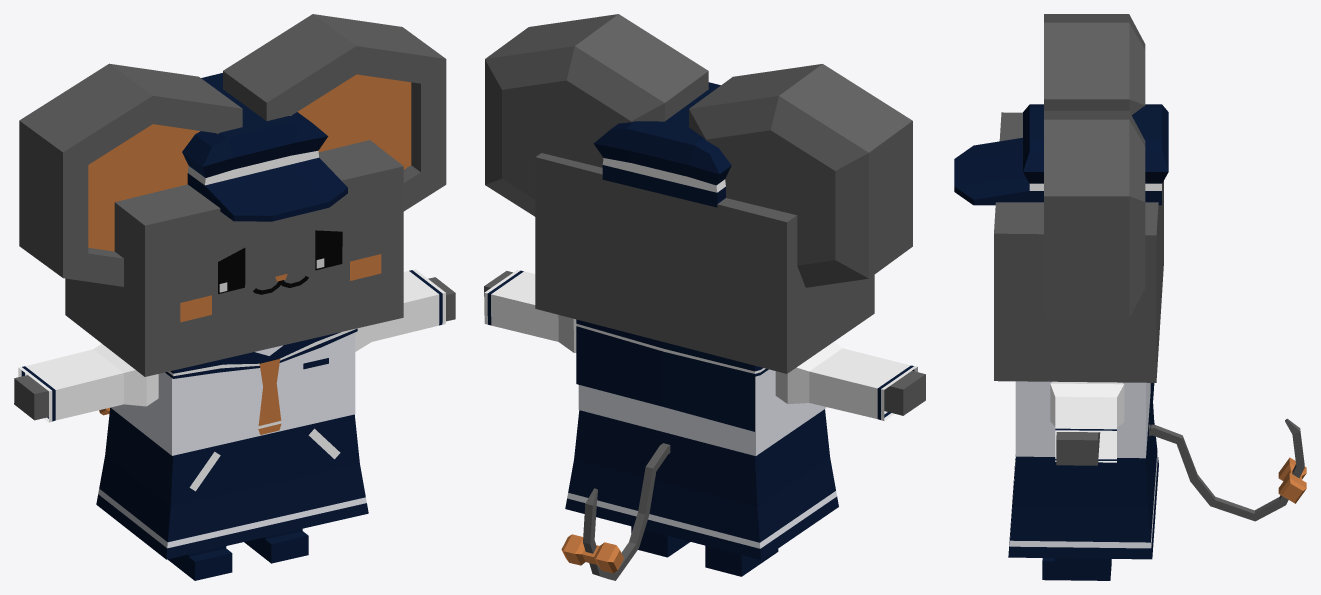
The model's file is npc_mouse_2.fbx.
3 renders of one model, left to right at view 1: azimuth 30°, elevation 25°; view 2: azimuth 150°, elevation 25°; view 3: azimuth 270°, elevation 25°, orthographic. The views are drawn at different scales.
Visible parts, largest first — view 1: ear, head, Pants, T-shirt, cap, T-shirt.R, T-shirt.L, clothes2, eye, socks.R, socks.L, clothes3 (+3 smaller); view 2: ear, head, Pants, clothes2, cap, T-shirt, T-shirt.R, T-shirt.L, tail, arm.R, ribbon, socks.R (+1 smaller); view 3: ear, head, Pants, cap, T-shirt, T-shirt.L, tail, socks.L, arm.L, ribbon.
Boxes of the visible parts, x1,y1,x2,y2 form: ear: [19, 14, 446, 286]; head: [65, 140, 403, 376]; Pants: [96, 408, 368, 559]; T-shirt: [110, 332, 355, 455]; cap: [182, 73, 347, 221]; T-shirt.R: [18, 344, 158, 422]; T-shirt.L: [355, 269, 445, 351]; clothes2: [165, 328, 357, 378]; eye: [218, 230, 342, 293]; socks.R: [168, 546, 232, 580]; socks.L: [244, 528, 308, 563]; clothes3: [258, 359, 281, 434]; ear: [485, 14, 912, 287]; head: [535, 153, 874, 373]; Pants: [565, 409, 838, 559]; clothes2: [576, 319, 768, 431]; cap: [593, 82, 731, 207]; T-shirt: [578, 369, 826, 455]; T-shirt.R: [775, 342, 917, 421]; T-shirt.L: [484, 269, 576, 352]; tail: [583, 443, 670, 580]; arm.R: [884, 370, 925, 415]; ribbon: [561, 534, 623, 573]; socks.R: [705, 545, 778, 576]; ear: [1044, 14, 1145, 318]; head: [994, 112, 1163, 382]; Pants: [1008, 394, 1158, 559]; cap: [954, 104, 1168, 205]; T-shirt: [1015, 381, 1150, 458]; T-shirt.L: [1050, 381, 1124, 462]; tail: [1148, 418, 1304, 521]; socks.L: [1042, 558, 1111, 580]; arm.L: [1056, 432, 1100, 465]; ribbon: [1278, 457, 1306, 503].
Size of the model in its own units: 398 by 449 by 297.
